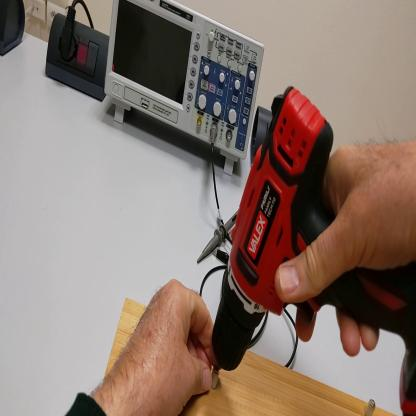electric screwdriver: (210, 85, 416, 416)
hand: (275, 139, 415, 359), (106, 282, 219, 414)
oscilloscope: (107, 1, 266, 178)
oscilloscope probe tip: (198, 210, 240, 260)
socket: (45, 13, 110, 104), (2, 2, 28, 56)
working area: (104, 300, 391, 416)
